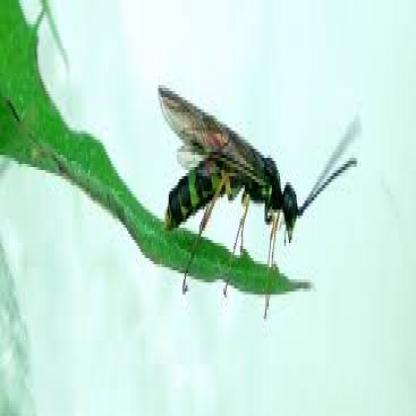sawfly: (157, 83, 360, 324)
